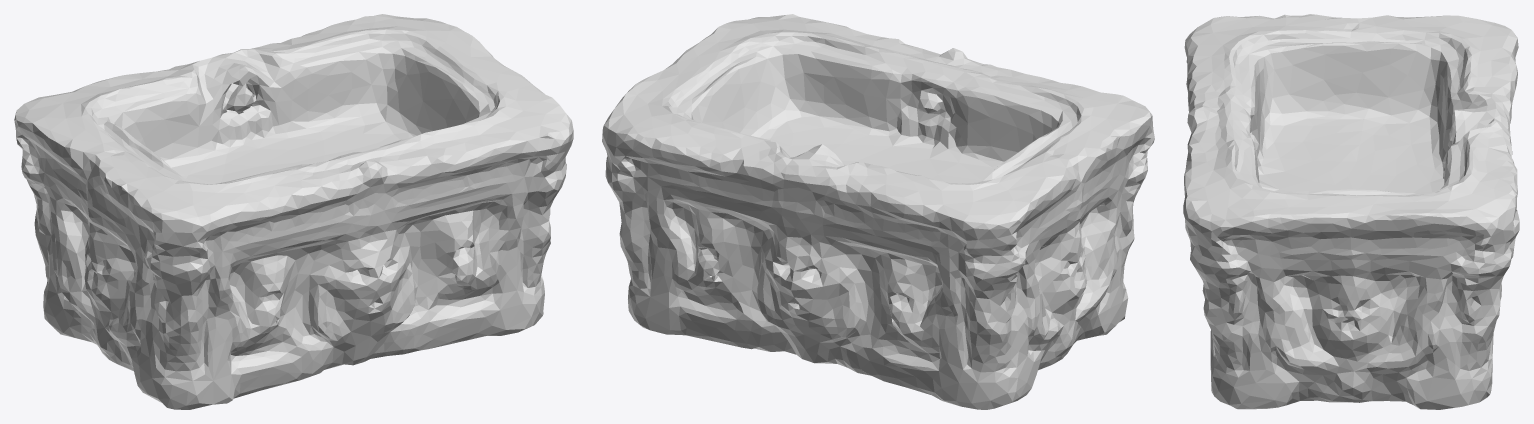
The model's file is altar_stone_r2.glb.
The picture shows the model from 3 angles, left to right: view 1: azimuth 30°, elevation 25°; view 2: azimuth 150°, elevation 25°; view 3: azimuth 270°, elevation 25°; orthographic projection.
Visible parts, largest first — view 1: Low; view 2: Low; view 3: Low.
Part boxes in pixels (box(x1,y1,x2,y2)): Low: box(14, 14, 573, 409); Low: box(602, 14, 1154, 409); Low: box(1183, 14, 1519, 409).
Bounding box in the file's own units: 1.97 × 0.963 × 1.38.
Materials: 1 (1 with a texture image).
